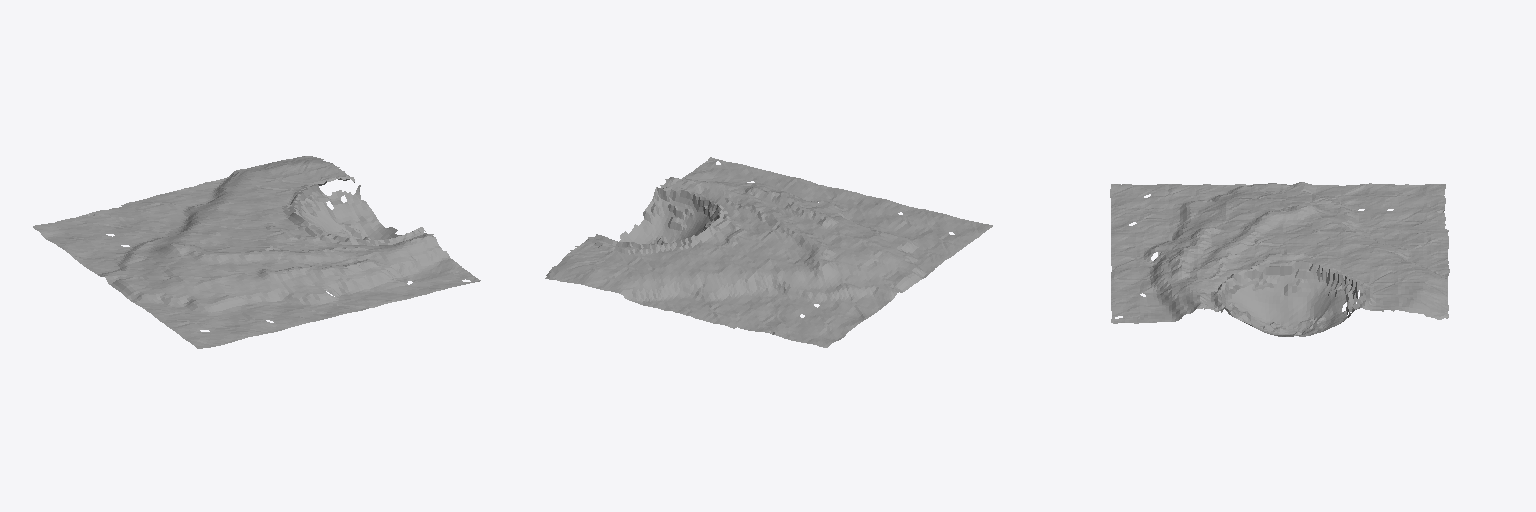
Rendered from mars2.obj.
3 views of the same model, side by side, from view 1: azimuth 30°, elevation 25°; view 2: azimuth 150°, elevation 25°; view 3: azimuth 270°, elevation 25° (orthographic).
Parts seen in each view (by area): view 1: ground.001_Plane.001; view 2: ground.001_Plane.001; view 3: ground.001_Plane.001.
Boxes of the visible parts, x1,y1,x2,y2 form: ground.001_Plane.001: [33, 156, 480, 348]; ground.001_Plane.001: [545, 157, 992, 347]; ground.001_Plane.001: [1110, 182, 1449, 336].
Bounding box in the file's own units: 21.41 × 2.95 × 22.15.